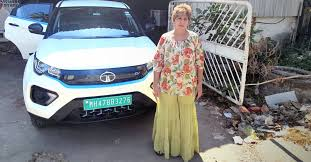Tata Nexon: (10, 1, 160, 131)
